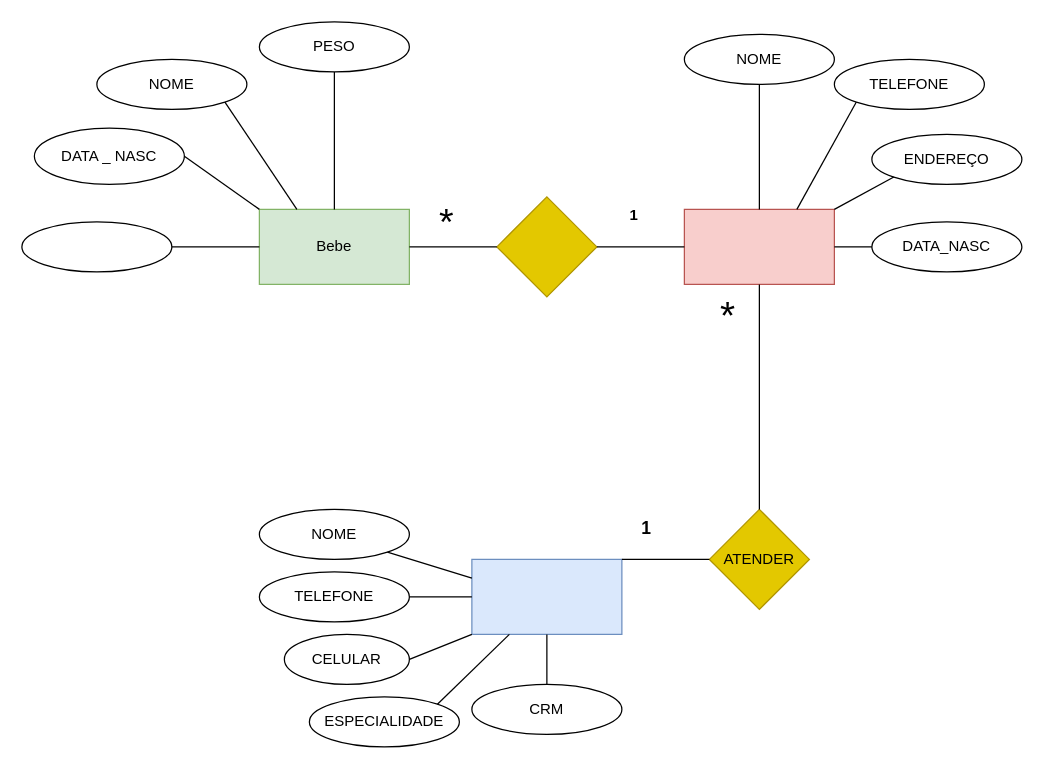
The diagram is 1044 pixels wide and 769 high, and some of its shapes have lost their labels. Here are the shapes that lost their labels. From the top down, the centre of each, then its label:
point (96, 246): ALTURA
point (546, 246): TEM
point (758, 246): MÃE
point (546, 596): MÉDICO
